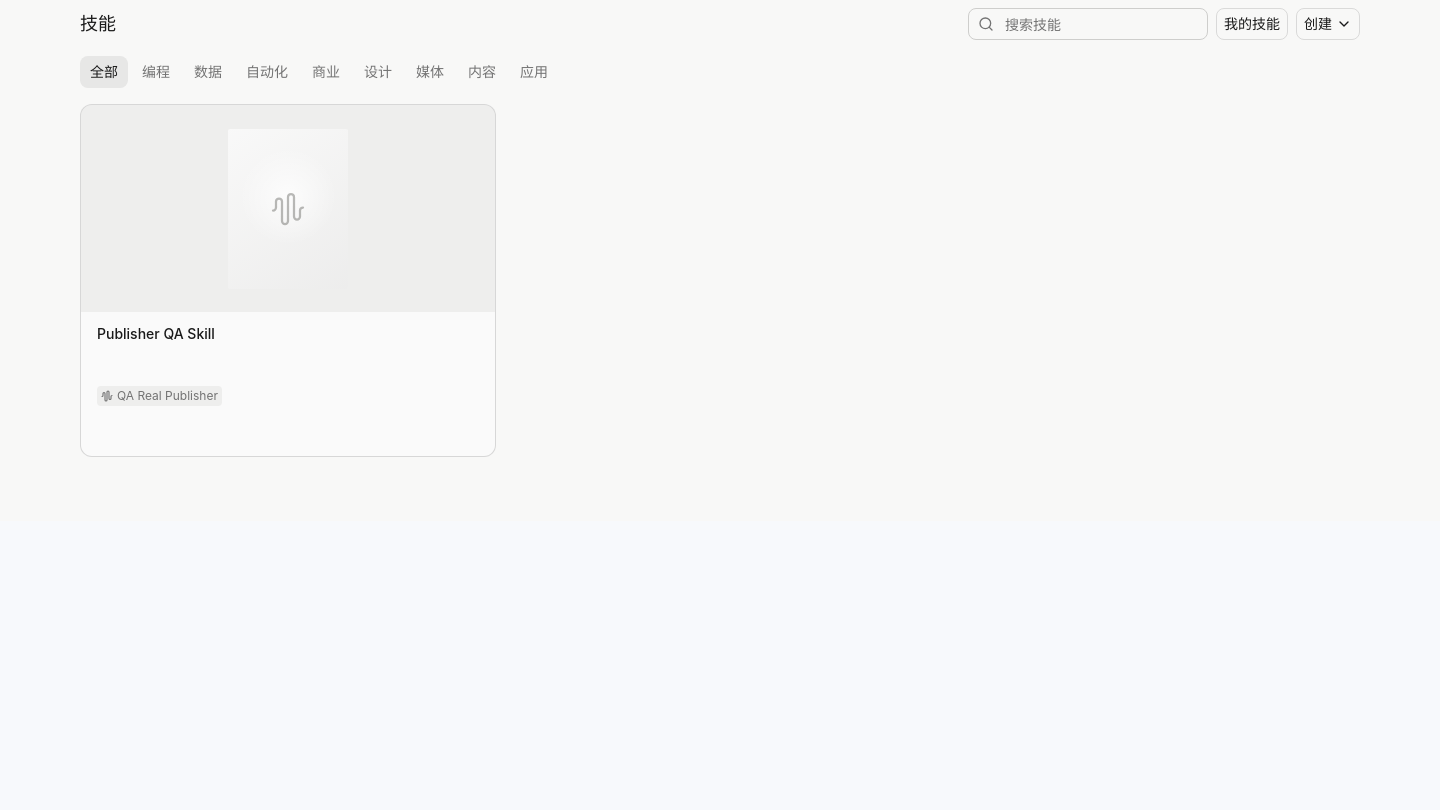
Test: shows only the same proven publisher in catalog and detail: QA Real Publisher
Expected: the text "QA Real Publisher" is shown, [117,388,218,404]
Click the button "Publisher QA Skill". click: point(156, 334)
box: [97,324,215,344]
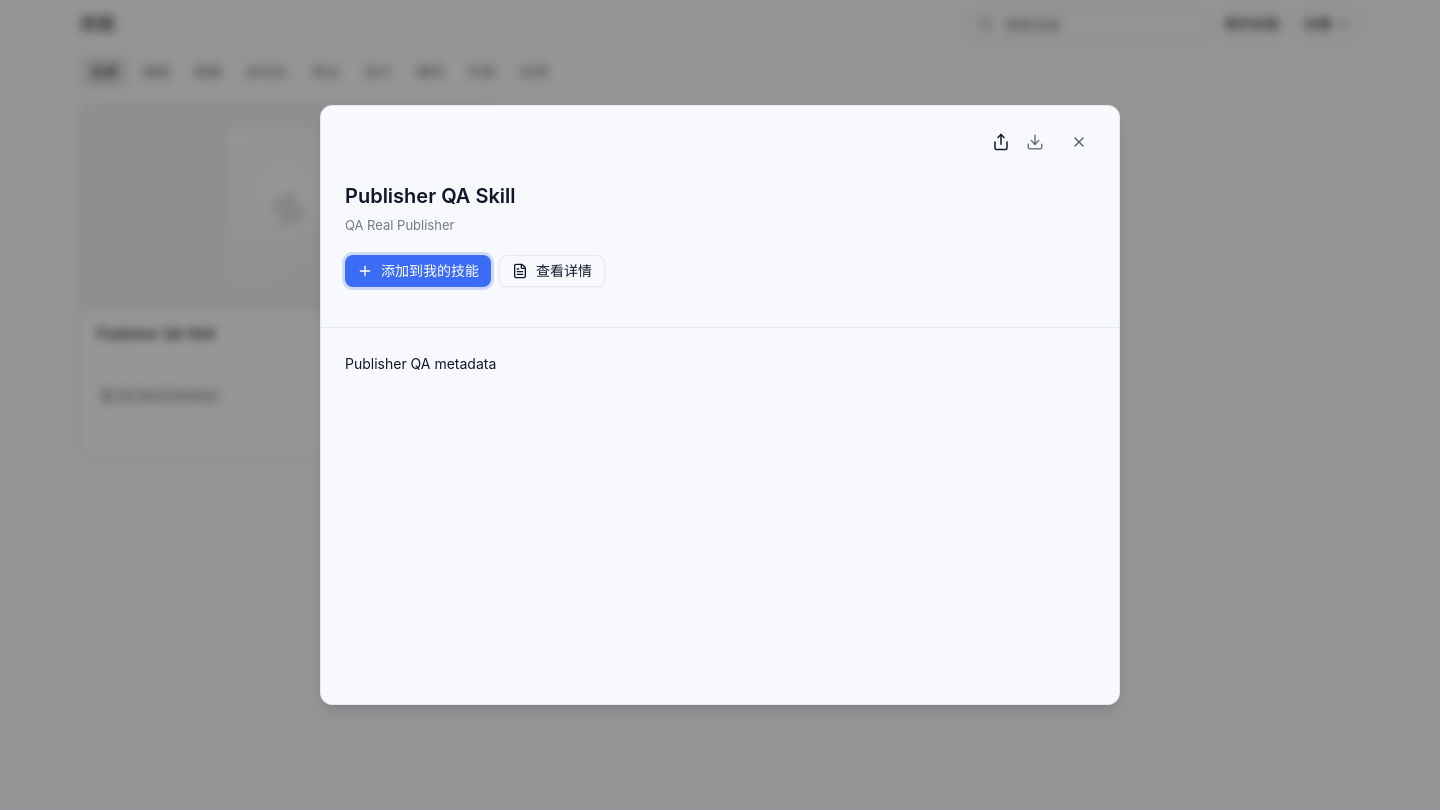
Now the text "Publisher QA metadata" is shown, box [345,355,496,372]
Now the text "QA Real Publisher" is shown, box [345,214,454,234]
